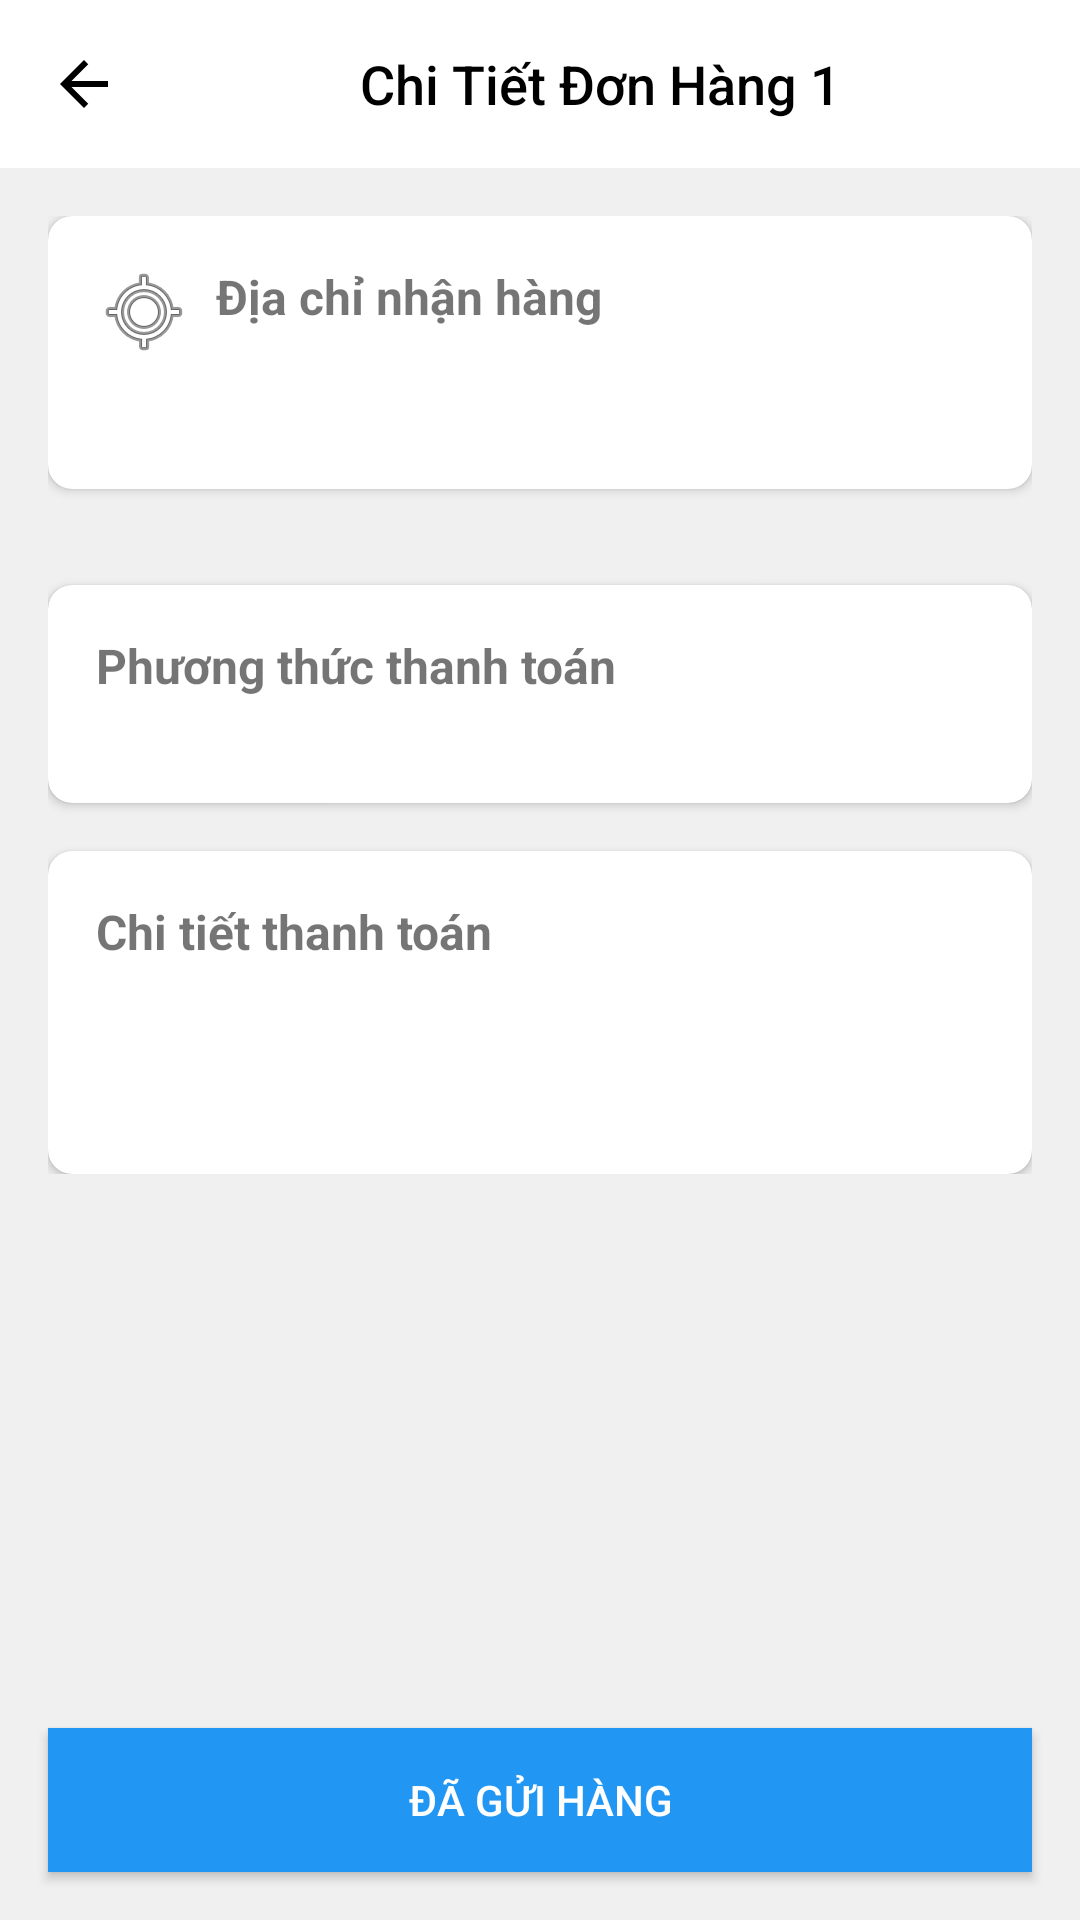

Icons on this 1080w x 1920h Android screen, each with its box as rect(x1, y1, x2, y2):
Back button: rect(60, 60, 108, 108)
